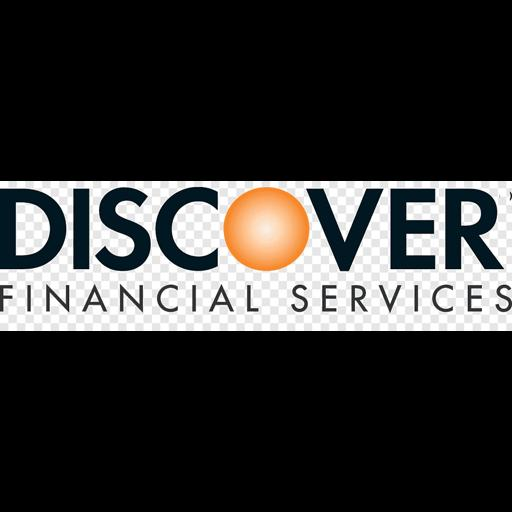Discover: (0, 181, 512, 331)
